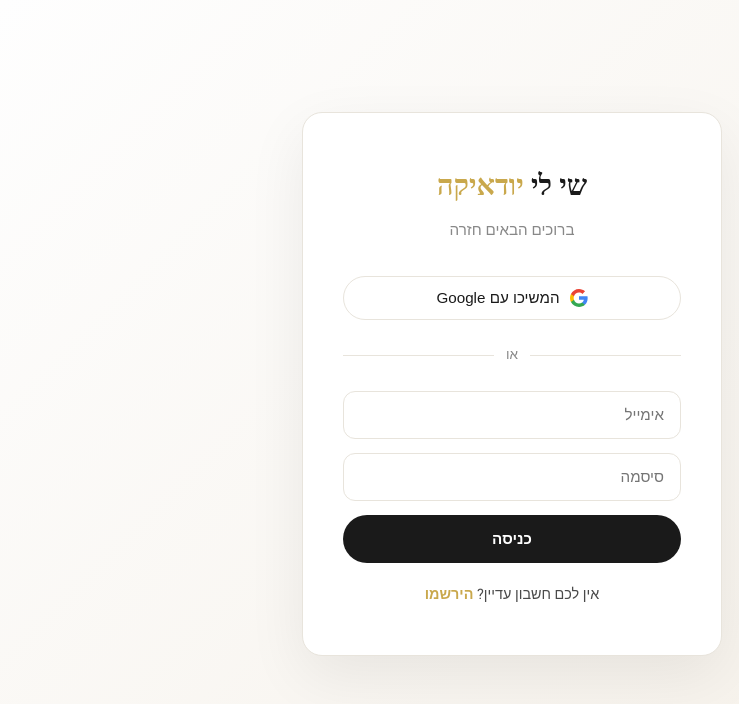
LoginPage › shows error message on sign-in failure
Type "x@x.com" into the field with placeholder "אימייל" at [512, 415], box [343,391,681,439]
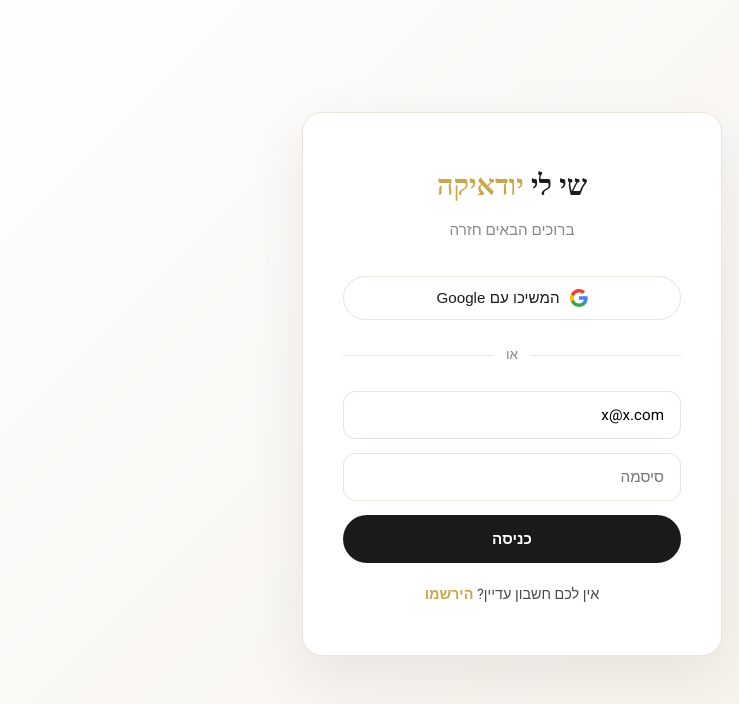
Type "wrong" into the password field with placeholder "סיסמה" at [512, 477], box [343,453,681,501]
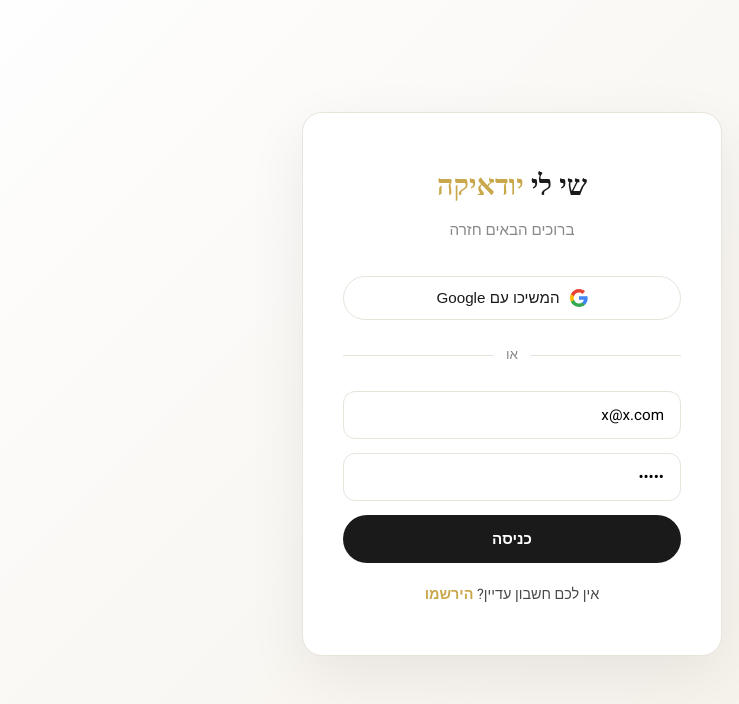
Submit the form "כניסה", box [343,391,681,563]
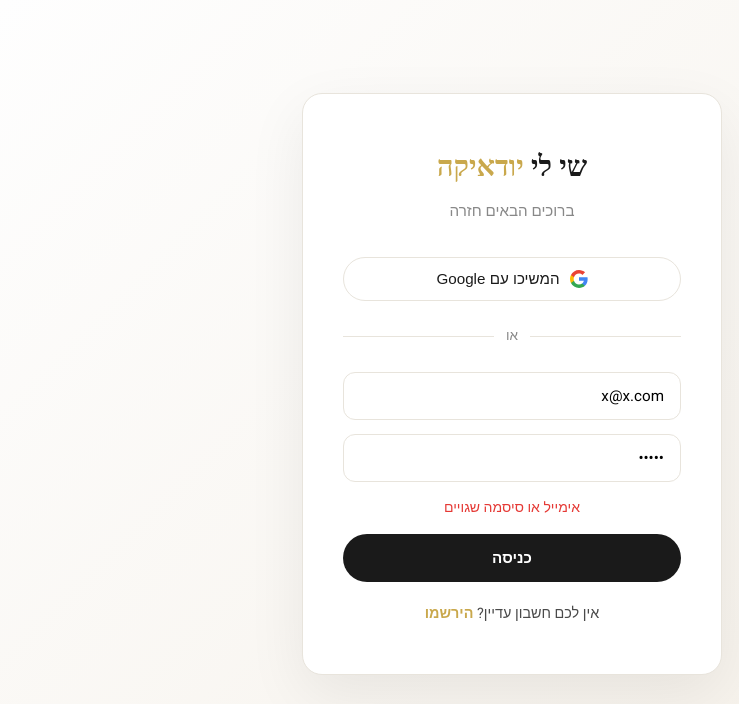
Expected: the text "אימייל או סיסמה שגויים" is shown, [444,497,580,518]
